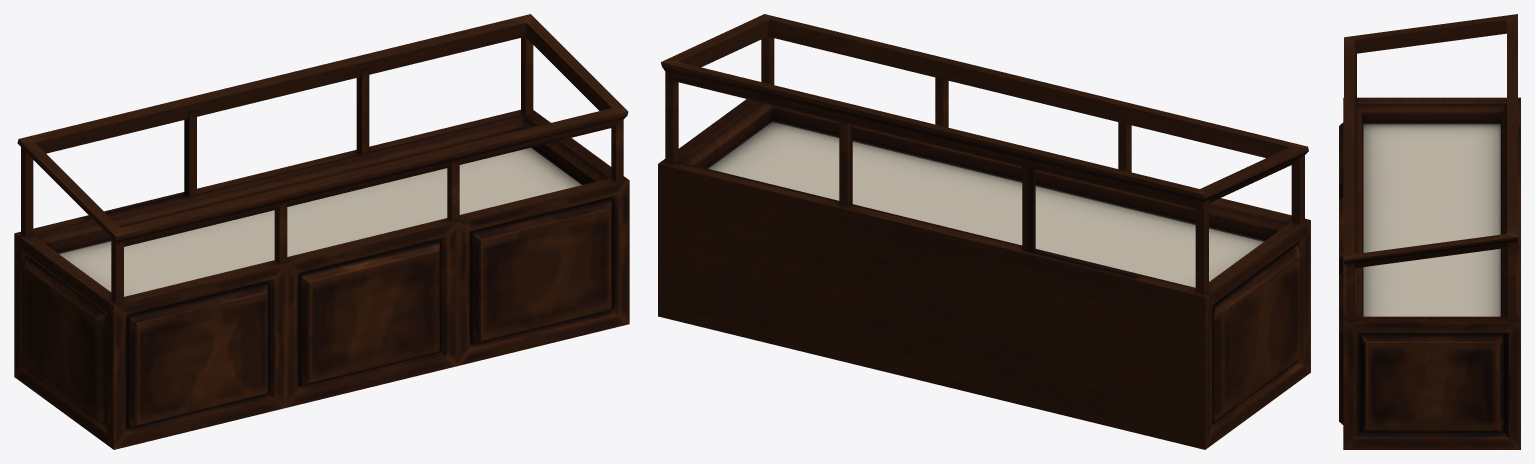
File: VitrineMuseum_Basse.fbx
The picture shows the model from 3 angles, left to right: view 1: azimuth 30°, elevation 25°; view 2: azimuth 150°, elevation 25°; view 3: azimuth 270°, elevation 25°; orthographic projection. The views are drawn at different scales.
Parts seen in each view (by area): view 1: Vitrine_Basse; view 2: Vitrine_Basse; view 3: Vitrine_Basse.
Boxes of the visible parts, x1,y1,x2,y2 form: Vitrine_Basse: [14, 14, 629, 449]; Vitrine_Basse: [658, 14, 1310, 449]; Vitrine_Basse: [1339, 14, 1520, 449].
Bounding box in the file's own units: 4.13 × 1.81 × 1.4.
